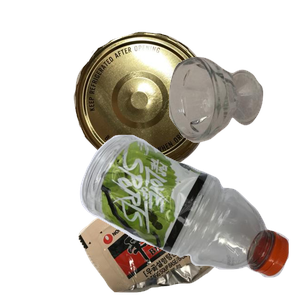glass: (166, 54, 300, 189)
metal: (71, 29, 276, 193)
plastic: (77, 132, 300, 300)
trash: (76, 170, 300, 300)
